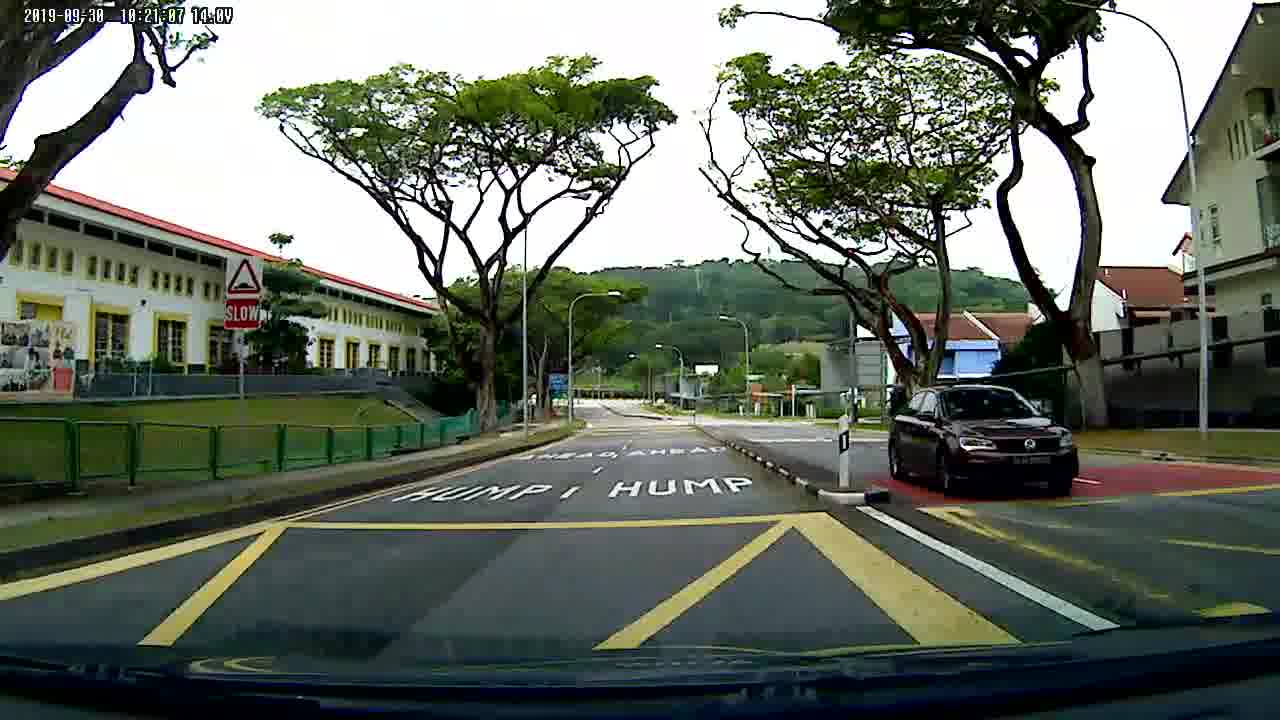car: (886, 385, 1082, 501)
